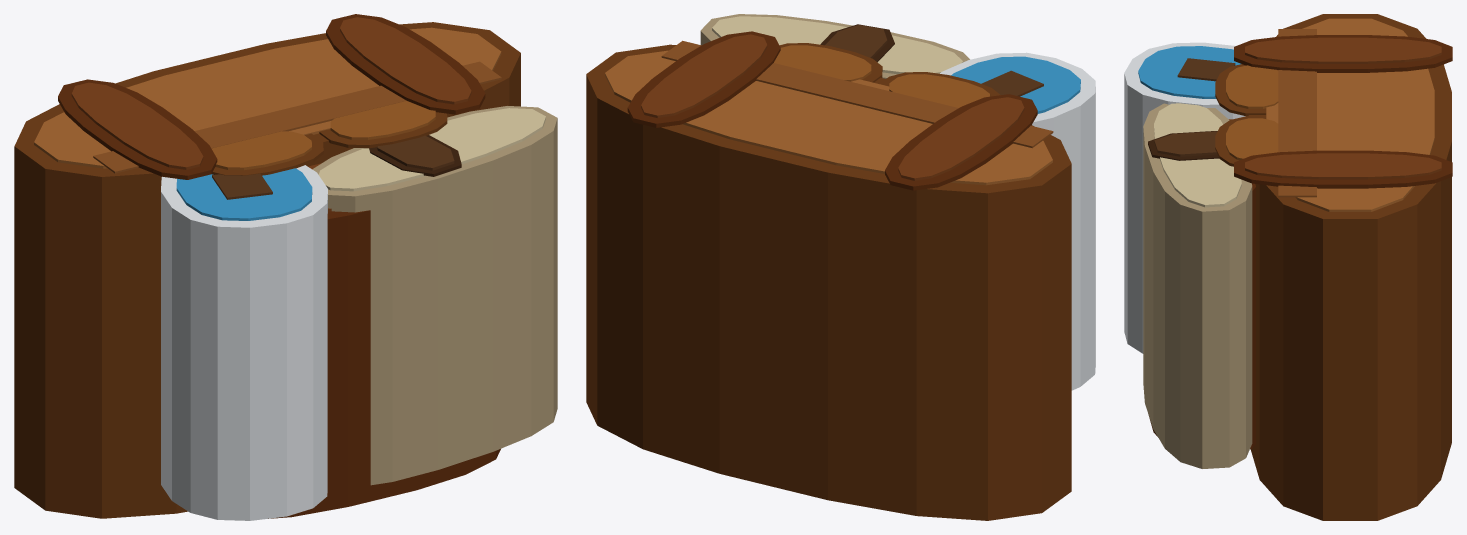
File: bag_cartografo.fbx
The picture shows the model from 3 angles, left to right: view 1: azimuth 30°, elevation 25°; view 2: azimuth 150°, elevation 25°; view 3: azimuth 270°, elevation 25°; orthographic projection. The views are drawn at different scales.
Parts seen in each view (by area): view 1: bag_cartografo_mochila; view 2: bag_cartografo_mochila; view 3: bag_cartografo_mochila.
Boxes of the visible parts, x1,y1,x2,y2 form: bag_cartografo_mochila: (14,14,557,520); bag_cartografo_mochila: (586,14,1095,520); bag_cartografo_mochila: (1124,14,1452,520).
Bounding box in the file's own units: 2.77 × 1.96 × 1.87.
Materials: 1 (1 with a texture image).
